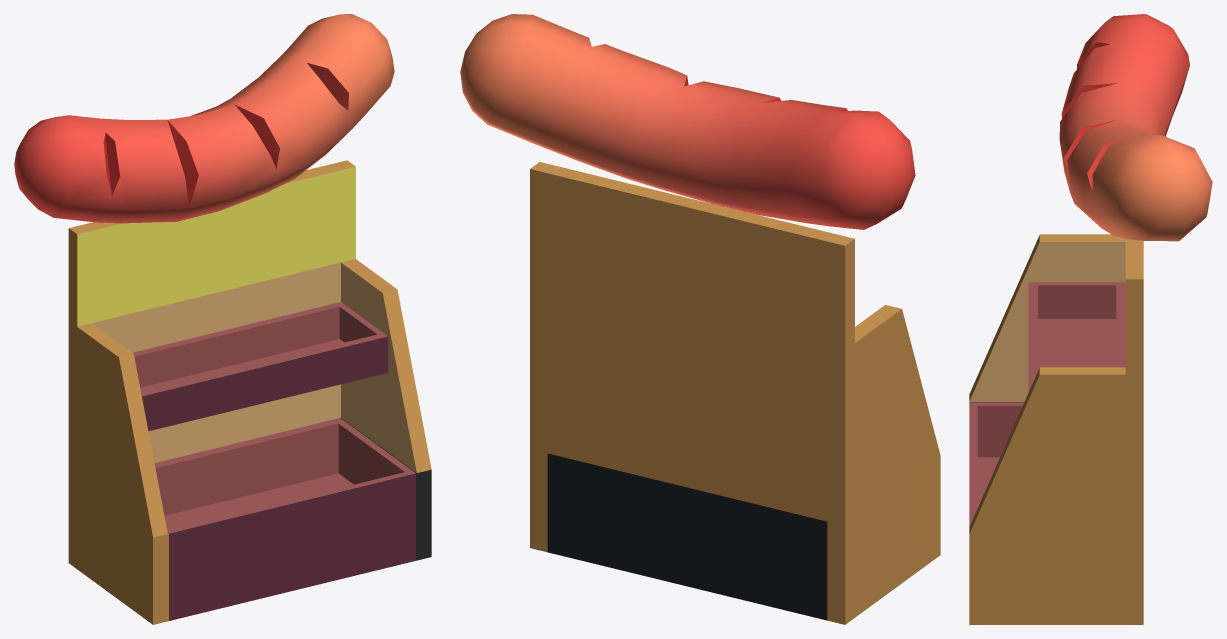
Rendered from Shelve_HotDog.fbx.
3 renders of one model, left to right at view 1: azimuth 30°, elevation 25°; view 2: azimuth 150°, elevation 25°; view 3: azimuth 270°, elevation 25°, orthographic. The views are drawn at different scales.
Parts seen in each view (by area): view 1: Shelve_HotDog; view 2: Shelve_HotDog; view 3: Shelve_HotDog.
Part boxes in pixels (x1=…): Shelve_HotDog: x1=14, y1=14, x2=431, y2=624; Shelve_HotDog: x1=460, y1=14, x2=940, y2=624; Shelve_HotDog: x1=969, y1=14, x2=1212, y2=624.
Bounding box in the file's own units: 594 × 712 × 323.
